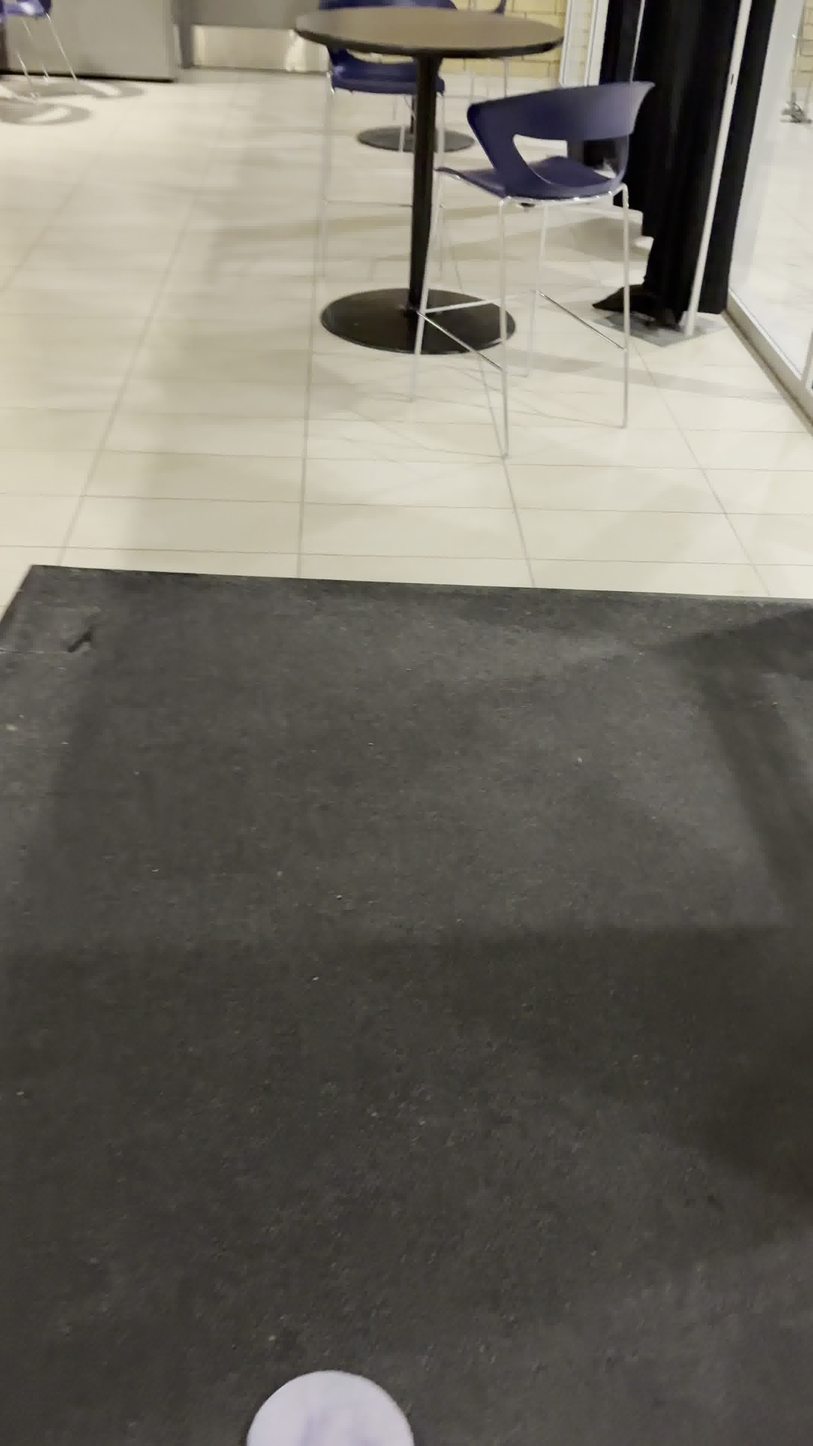Target: (240, 1370, 420, 1446)
